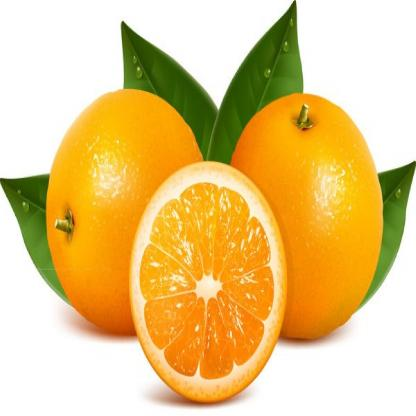orange: (39, 85, 215, 367), (221, 90, 388, 348)
